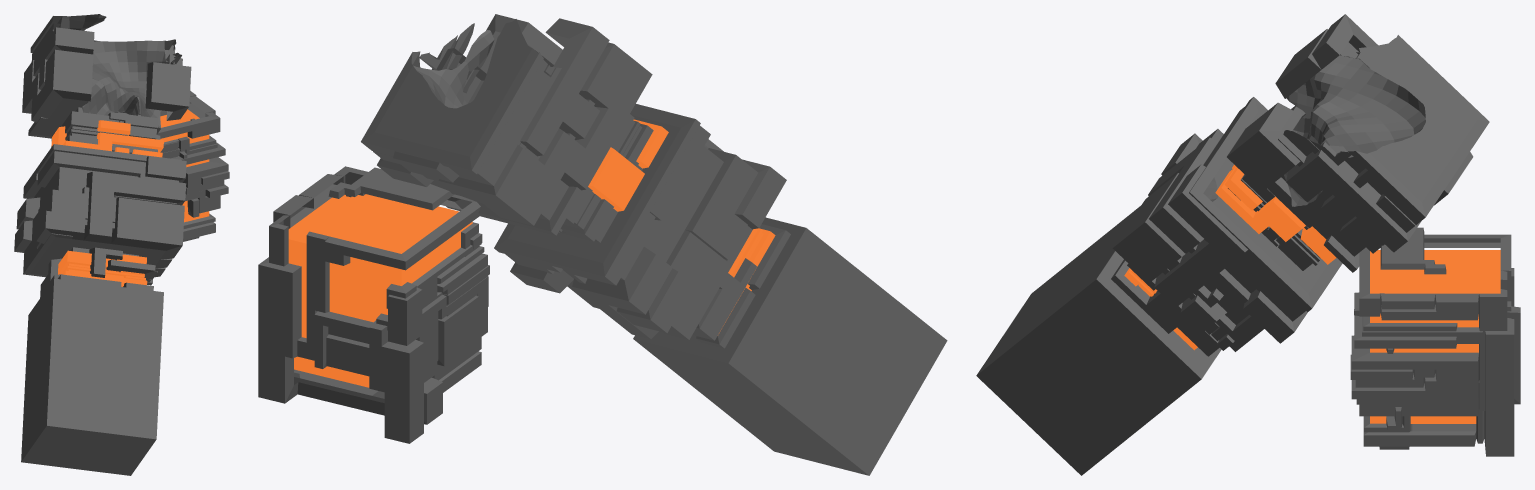
File: FragmentTowerBroken.glb
3 views of the same model, side by side, from view 1: azimuth 30°, elevation 25°; view 2: azimuth 150°, elevation 25°; view 3: azimuth 270°, elevation 25° (orthographic). The views are drawn at different scales.
Visible parts, largest first — view 1: BrokenFragment; view 2: BrokenFragment; view 3: BrokenFragment.
Boxes of the visible parts, <box> form: BrokenFragment: <box>14,14,229,475</box>; BrokenFragment: <box>258,14,947,475</box>; BrokenFragment: <box>976,14,1520,475</box>.
Size of the model in its own units: 14.65 by 16.86 by 17.37.
